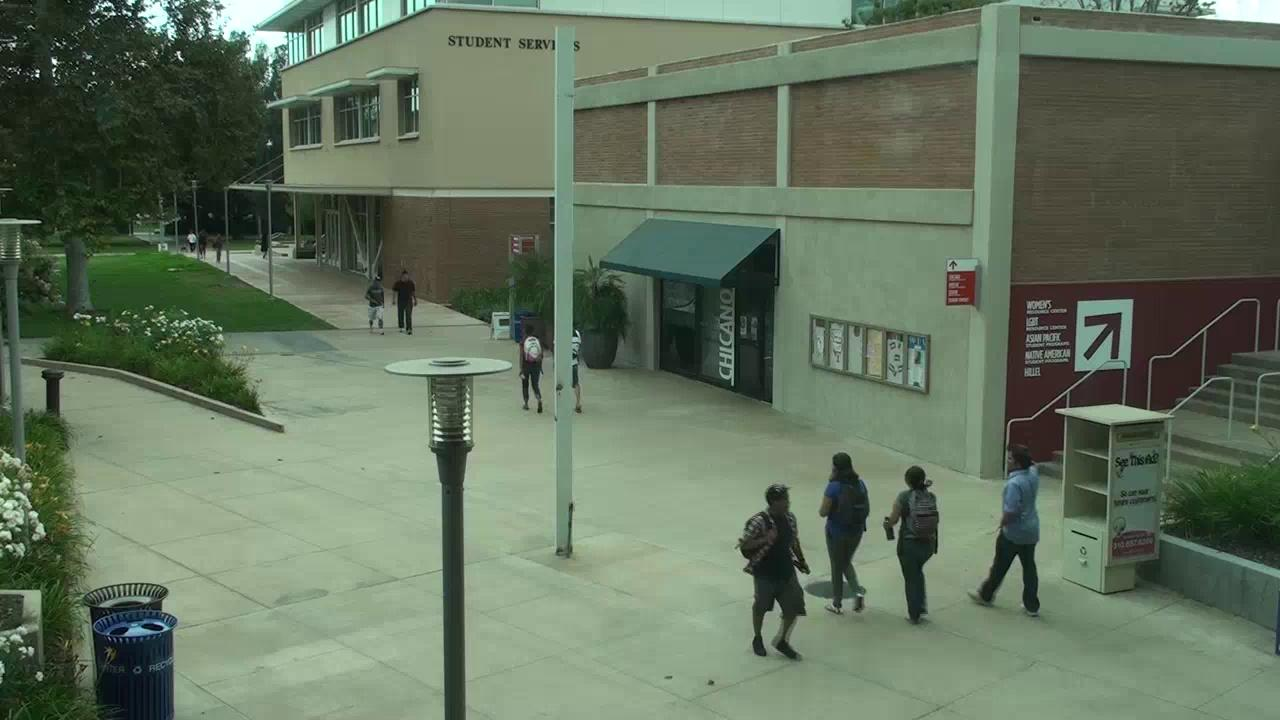person: (737, 485, 809, 659), (972, 445, 1038, 615), (884, 467, 939, 623), (819, 452, 870, 611), (521, 332, 546, 412), (393, 270, 415, 334), (366, 277, 384, 333), (571, 329, 581, 412)
